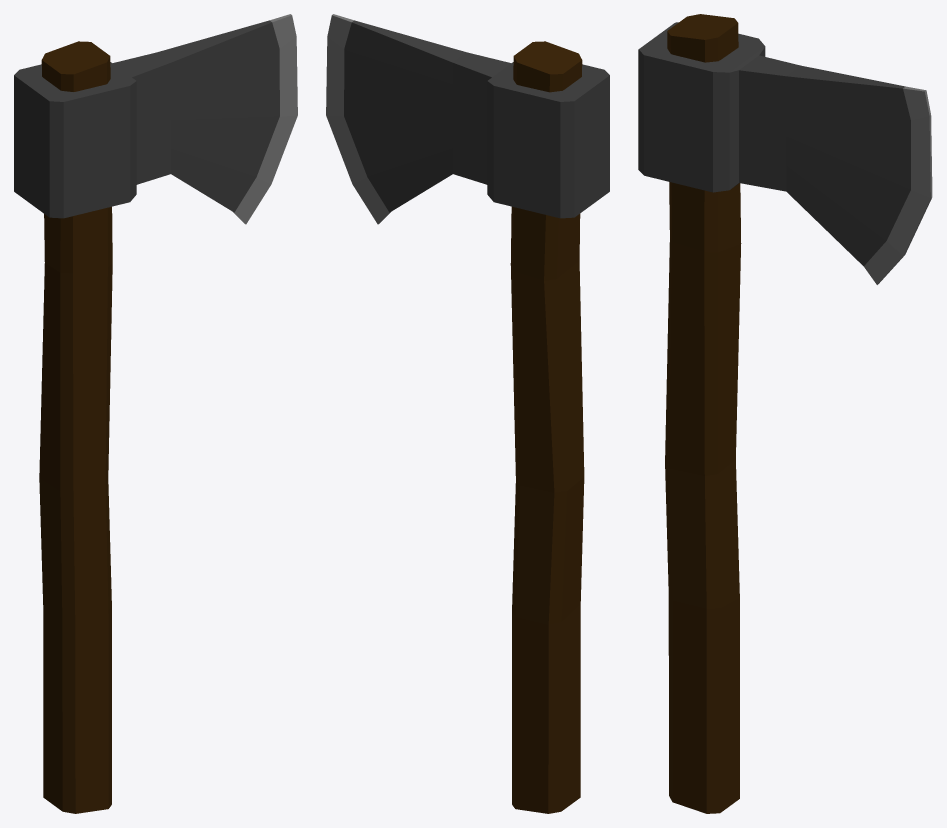
The model's file is Axe.fbx.
3 views of the same model, side by side, from view 1: azimuth 30°, elevation 25°; view 2: azimuth 150°, elevation 25°; view 3: azimuth 330°, elevation 25° (orthographic). The views are drawn at different scales.
Visible parts, largest first — view 1: Axe; view 2: Axe; view 3: Axe.
Boxes of the visible parts, <box> form: Axe: <box>14,14,297,813</box>; Axe: <box>326,14,609,813</box>; Axe: <box>638,14,932,813</box>.
Size of the model in its own units: 14.89 by 40.14 by 4.29.
